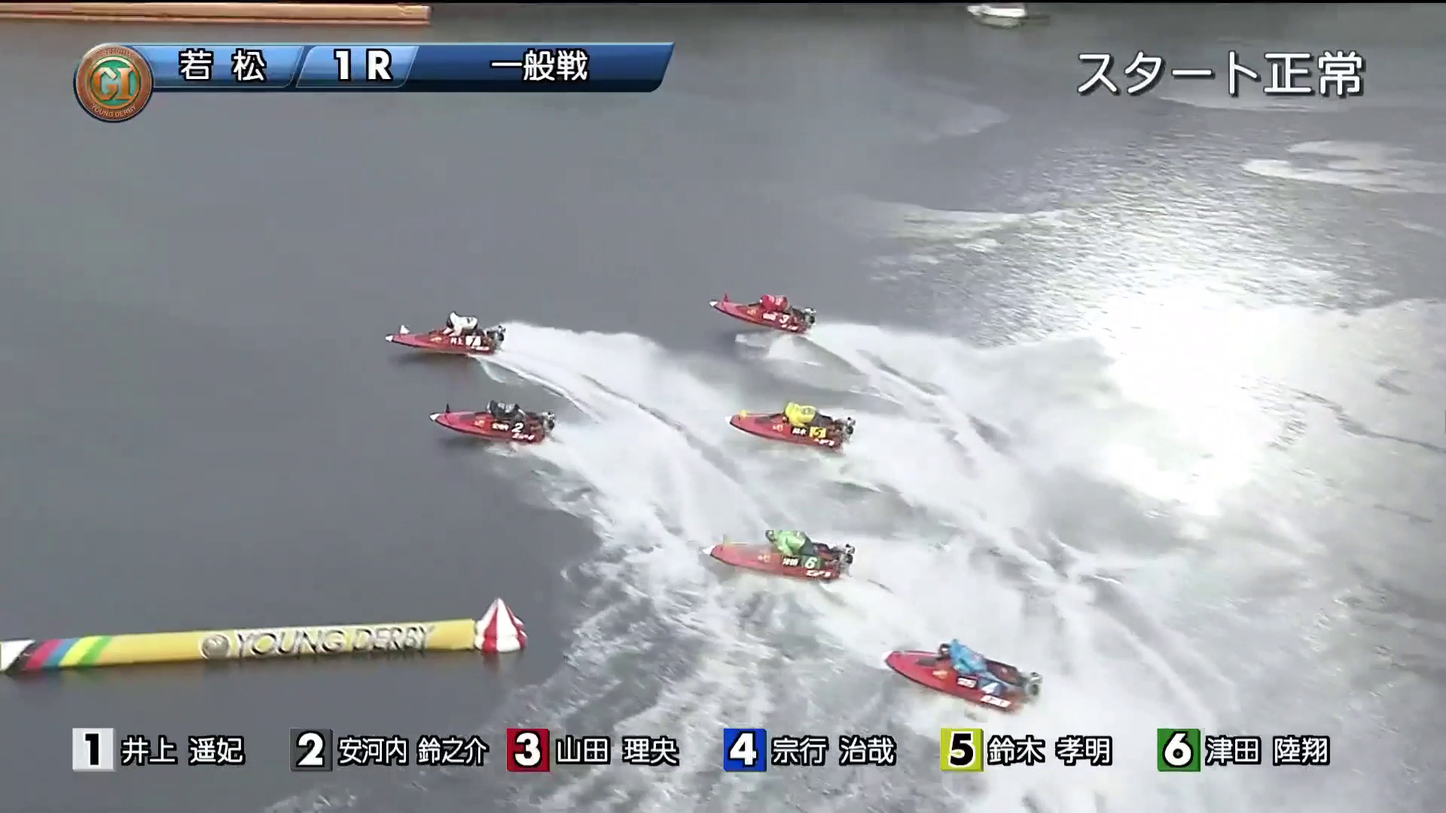１号艇: (418, 281, 488, 335)
２号艇: (425, 370, 554, 431)
３号艇: (738, 266, 836, 318)
４号艇: (731, 506, 865, 571)
５号艇: (900, 650, 1024, 705)
６号艇: (741, 357, 841, 437)
